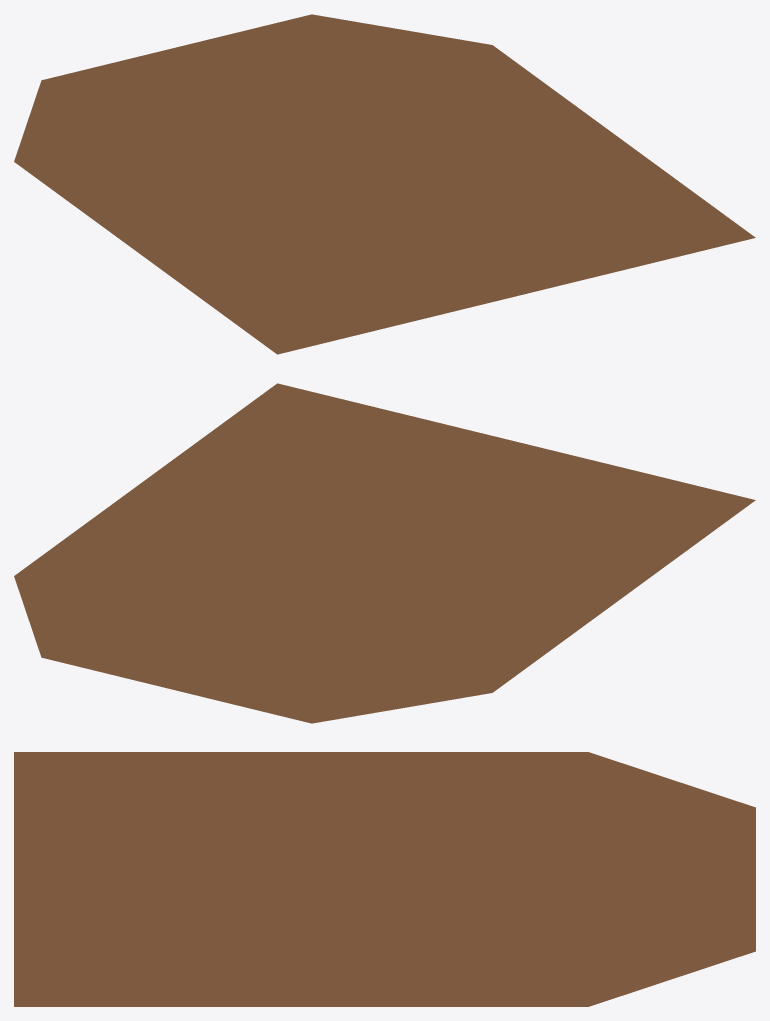
Rendered from FLOOR_wood_white_suitemaster.FBX.
3 renders of one model, top to bottom at view 1: azimuth 30°, elevation 25°; view 2: azimuth 150°, elevation 25°; view 3: azimuth 270°, elevation 25°, orthographic. The views are drawn at different scales.
Parts seen in each view (by area): view 1: FLOOR_wood_white_suitemaster; view 2: FLOOR_wood_white_suitemaster; view 3: FLOOR_wood_white_suitemaster.
Boxes of the visible parts, bbox=[...] form: FLOOR_wood_white_suitemaster: bbox=[14, 14, 755, 354]; FLOOR_wood_white_suitemaster: bbox=[14, 383, 755, 723]; FLOOR_wood_white_suitemaster: bbox=[14, 752, 755, 1006].
Bounding box in the file's own units: 382 × 470 × 0.
